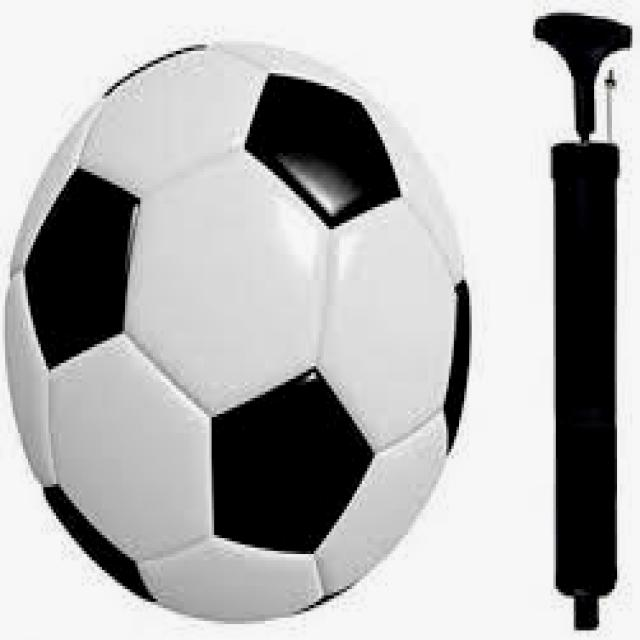Soccer Ball: (5, 38, 474, 624)
